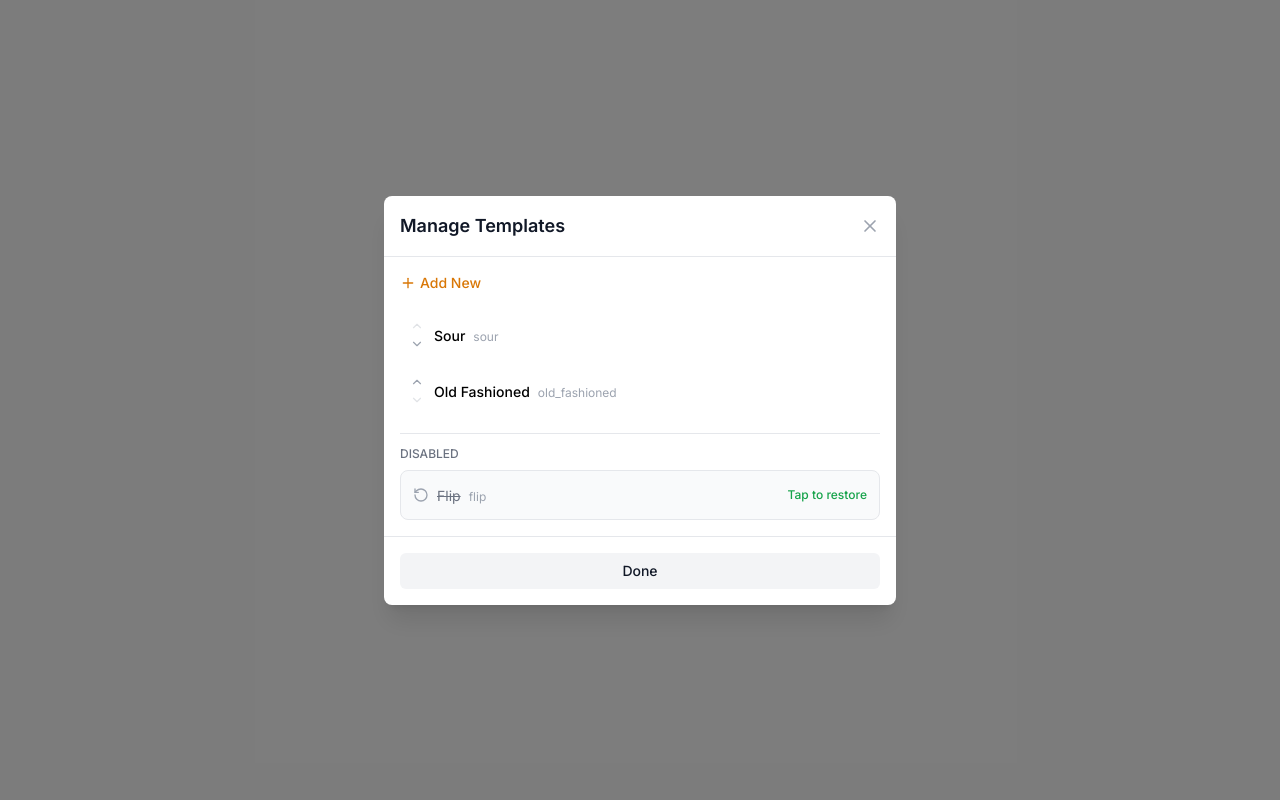
CategoryManagementModal › shows Add New button and form on click
Click the button "Add New" at coordinates (441, 282), box [400,272,481,292]
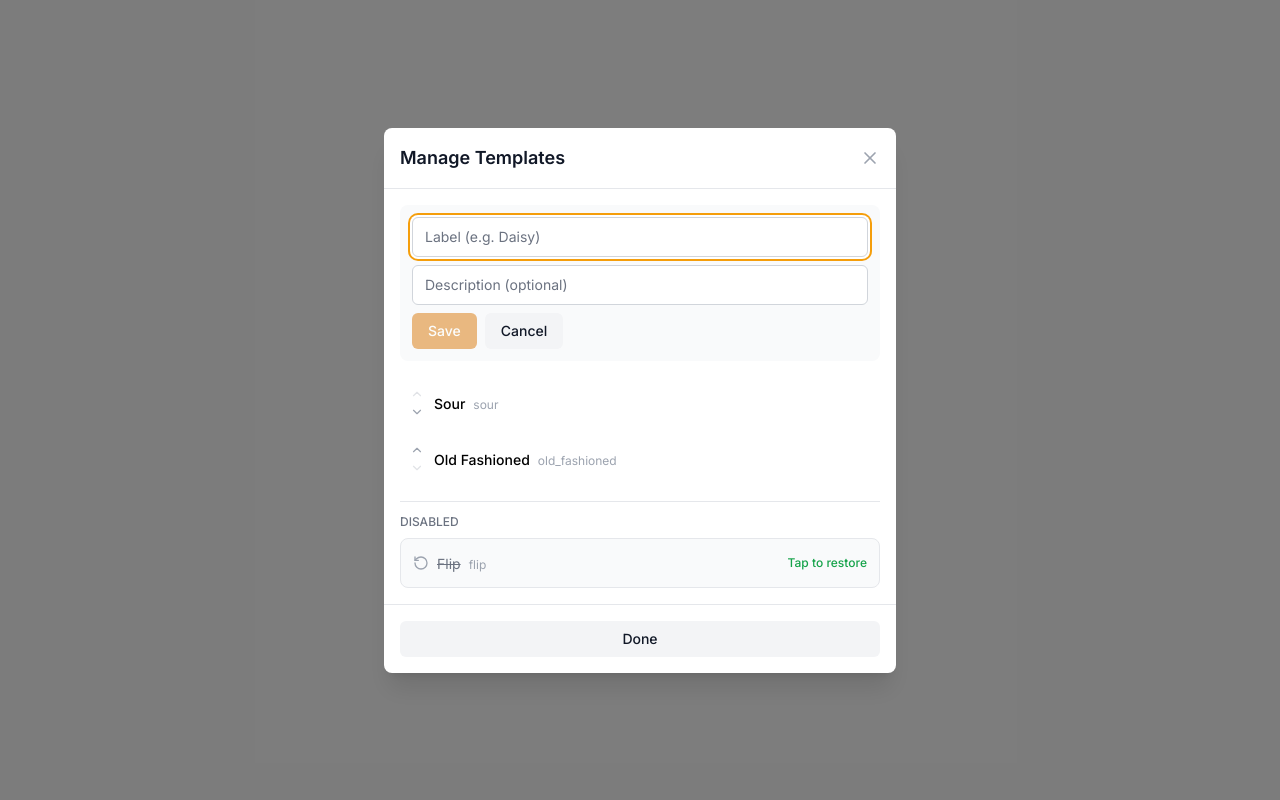
Check: the field with placeholder "Label (e.g. Daisy)" is shown, box [412,216,868,256]
Check: the field with placeholder "Description (optional)" is shown, box [412,264,868,304]
